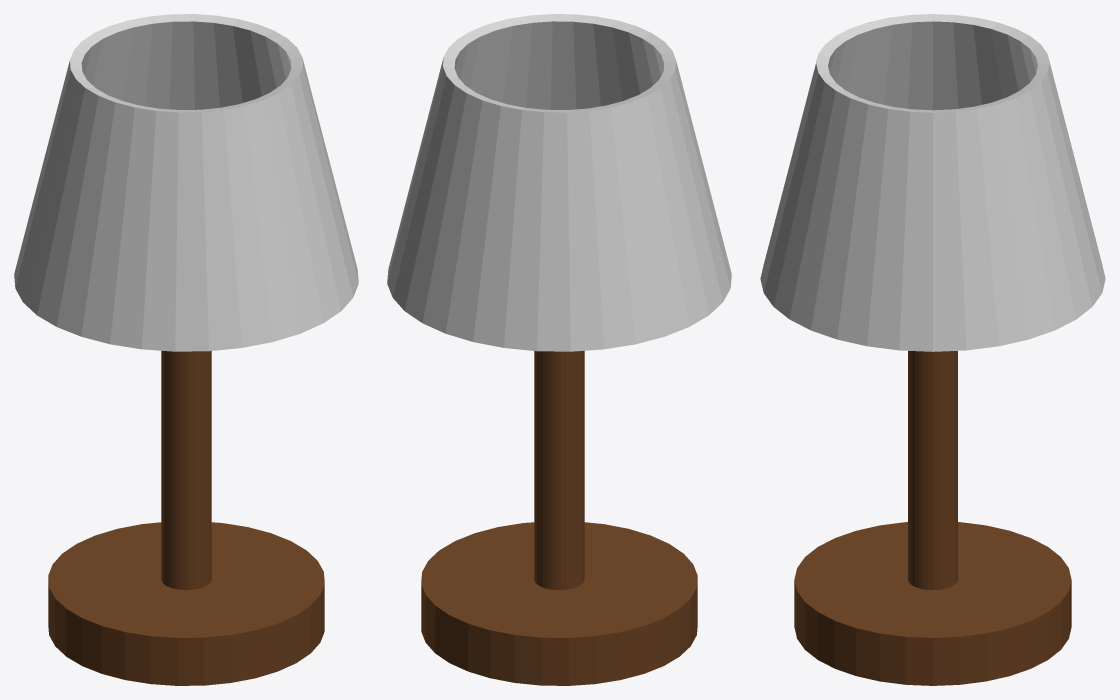
File: lamp.fbx
The picture shows the model from 3 angles, left to right: view 1: azimuth 30°, elevation 25°; view 2: azimuth 150°, elevation 25°; view 3: azimuth 270°, elevation 25°; orthographic projection.
Visible parts, largest first — view 1: Cylinder, Cylinder.002, Cylinder.001; view 2: Cylinder, Cylinder.002, Cylinder.001; view 3: Cylinder, Cylinder.002, Cylinder.001.
Boxes of the visible parts, x1=… form: Cylinder: x1=14, y1=14, x2=358, y2=351; Cylinder.002: x1=48, y1=522, x2=324, y2=685; Cylinder.001: x1=161, y1=350, x2=211, y2=590; Cylinder: x1=387, y1=14, x2=731, y2=351; Cylinder.002: x1=421, y1=522, x2=697, y2=685; Cylinder.001: x1=534, y1=350, x2=584, y2=590; Cylinder: x1=760, y1=14, x2=1105, y2=351; Cylinder.002: x1=794, y1=522, x2=1071, y2=685; Cylinder.001: x1=908, y1=351, x2=957, y2=589.
Size of the model in its own units: 200 by 361 by 200.
